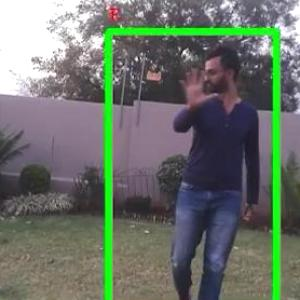follow_hand: (176, 63, 217, 109)
